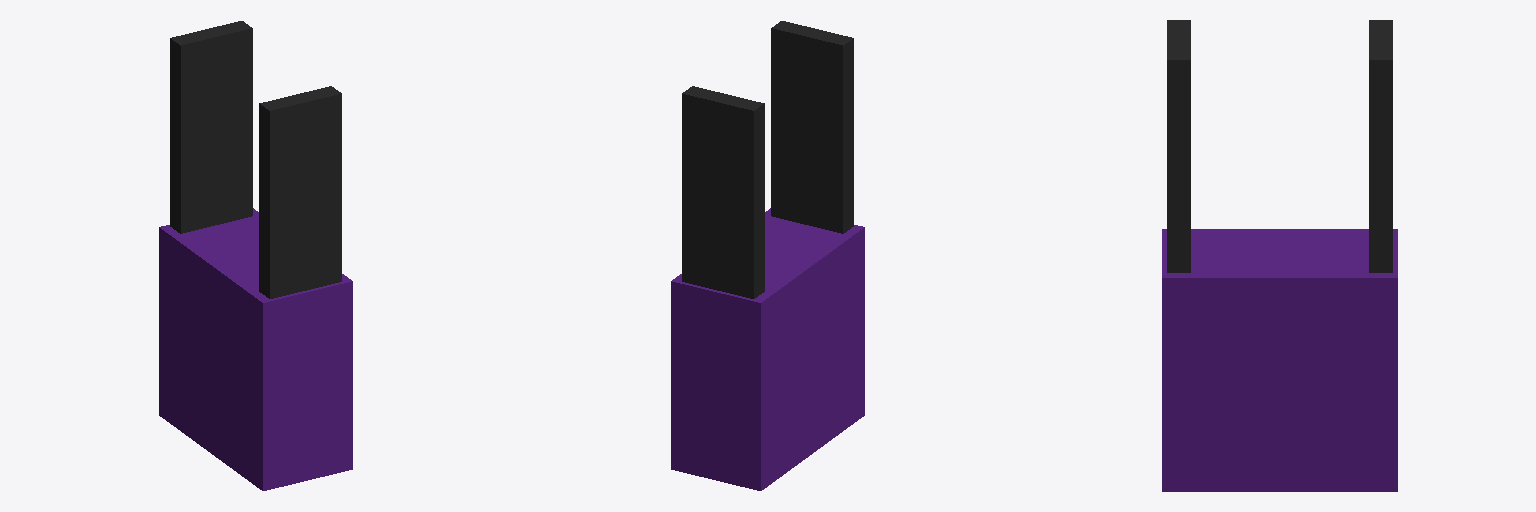
URDF robot description (gripper):
<?xml version="1.0" ?>
<!-- =================================================================================== -->
<!-- |    This document was autogenerated by xacro from src/bots/xacro/gripper.xacro   | -->
<!-- |    EDITING THIS FILE BY HAND IS NOT RECOMMENDED                                 | -->
<!-- =================================================================================== -->
<robot name="gripper">
  <!-- ****************************************************** Gripper Robot ************************************************************  -->
  <!-- [author]                                                                                                                  -->
  <!-- March 2022                                                                                                                         -->
  <!-- *********************************************************************************************************************************  -->
  <!-- ****************************************************** Parameters ***************************************************************  -->
  <!-- ****************************************************** Includes *****************************************************************  -->
  <material name="red">
    <color rgba="1.0 0.0 0.0 1.0"/>
  </material>
  <material name="green">
    <color rgba="0.0 1.0 0.0 1.0"/>
  </material>
  <material name="blue">
    <color rgba="0.0 0.0 1.0 1.0"/>
  </material>
  <material name="black">
    <color rgba="0.3 0.3 0.3 1.0"/>
  </material>
  <material name="white">
    <color rgba="1.0 1.0 1.0 1.0"/>
  </material>
  <material name="grey">
    <color rgba="0.2 0.2 0.2 1.0"/>
  </material>
  <material name="orange">
    <color rgba="1.0 0.4235294117647059 0.0392156862745098 1.0"/>
  </material>
  <material name="brown">
    <color rgba="0.8705882352941177 0.8117647058823529 0.7647058823529411 1.0"/>
  </material>
  <material name="yellow">
    <color rgba="1.0 1.0 0.0 1.0"/>
  </material>
  <!-- ****************************************************** World Link *************************************************************** -->
  <link name="world"/>
  <!-- ****************************************************** Base Link **************************************************************** -->
  <link name="base">
    <visual>
      <geometry>
        <box size="0.5 1 1"/>
      </geometry>
      <origin xyz="0 0 0.5"/>
      <material name="violet">
        <color rgba="0.4 0.18 0.57 1.0"/>
      </material>
    </visual>
    <inertial>
      <mass value="50"/>
      <inertia ixx="1.0" ixy="0.0" ixz="0.0" iyy="1.0" iyz="0.0" izz="1.0"/>
    </inertial>
  </link>
  <gazebo reference="base">
    <material>Gazebo/Orange</material>
  </gazebo>
  <!-- ****************************************************** finger_right Link ******************************************************** -->
  <link name="finger_right">
    <visual>
      <geometry>
        <box size="0.4 0.1 1"/>
      </geometry>
      <origin xyz="0 0.05 0.5"/>
      <material name="grey">
        <color rgba="0.2 0.2 0.2 1"/>
      </material>
    </visual>
    <inertial>
      <mass value="5"/>
      <inertia ixx="1.0" ixy="0.0" ixz="0.0" iyy="1.0" iyz="0.0" izz="1.0"/>
    </inertial>
  </link>
  <!-- ****************************************************** finger_left Link ********************************************************* -->
  <link name="finger_left">
    <visual>
      <geometry>
        <box size="0.4 0.1 1"/>
      </geometry>
      <origin xyz="0 0.05 0.5"/>
      <material name="grey">
        <color rgba="0.2 0.2 0.2 1"/>
      </material>
    </visual>
    <inertial>
      <mass value="5"/>
      <inertia ixx="1.0" ixy="0.0" ixz="0.0" iyy="1.0" iyz="0.0" izz="1.0"/>
    </inertial>
  </link>
  <!-- ****************************************************** world to base Joint ****************************************************** -->
  <joint name="world_to_base" type="fixed">
    <origin rpy="0 0 0" xyz="0 0 0"/>
    <parent link="world"/>
    <child link="base"/>
  </joint>
  <!-- ****************************************************** right_finger Joint ******************************************************* -->
  <joint name="right_finger_joint" type="prismatic">
    <axis xyz="0 1 0"/>
    <origin rpy="0.0 0.0 0.0" xyz="0.0 -0.48 1"/>
    <parent link="base"/>
    <child link="finger_right"/>
    <limit effort="1000.0" lower="0" upper="0.38" velocity="10"/>
  </joint>
  <!-- ****************************************************** left_finger Joint ******************************************************** -->
  <joint name="left_finger_joint" type="prismatic">
    <mimic joint="right_finger_joint"/>
    <axis xyz="0 1 0"/>
    <origin rpy="0.0 0.0 3.1415926535" xyz="0.0 0.48 1"/>
    <parent link="base"/>
    <child link="finger_left"/>
    <limit effort="1000.0" lower="0" upper="0.38" velocity="10"/>
  </joint>
  <!-- ****************************************************** End ********************************************************************** -->
  <!-- ****************************************************** Base Link *************************************************************** -->
  <gazebo reference="base">
    <material>Gazebo/Orange</material>
  </gazebo>
  <!-- ****************************************************** finger_right Link ******************************************************** -->
  <gazebo reference="finger_right">
    <material>Gazebo/Red</material>
  </gazebo>
  <!-- ****************************************************** finger_left Link ********************************************************* -->
  <gazebo reference="finger_left">
    <material>Gazebo/Red</material>
  </gazebo>
  <!-- ****************************************************** Gazebo ROS2 Plugin ******************************************************* -->
  <gazebo>
    <plugin filename="libgazebo_ros2_control.so" name="gazebo_ros2_control">
      <robot_param>robot_description</robot_param>
      <robot_param_node>robot_state_publisher</robot_param_node>
      <parameters>[local-path]/ws/install/bots/share/bots/config/gripper.yaml</parameters>
    </plugin>
  </gazebo>
  <!-- ****************************************************** End ********************************************************************** -->
  <!-- ****************************************************** Gazebo ROS2 Control ****************************************************** -->
  <ros2_control name="GazeboSystem" type="system">
    <hardware>
      <plugin>gazebo_ros2_control/GazeboSystem</plugin>
    </hardware>
    <joint name="right_finger_joint">
      <command_interface name="position"/>
      <state_interface name="position">
        <param name="initial_value">0.15</param>
      </state_interface>
      <state_interface name="velocity"/>
      <state_interface name="effort"/>
    </joint>
    <joint name="left_finger_joint">
      <param name="mimic">right_finger_joint</param>
      <param name="multiplier">1</param>
      <command_interface name="position"/>
      <state_interface name="position"/>
      <state_interface name="velocity"/>
      <state_interface name="effort"/>
    </joint>
  </ros2_control>
  <!-- ****************************************************** End ********************************************************************** -->
  <!--  ROS2_Control -->
  <!-- ****************************************************** END **********************************************************************  -->
</robot>

--- Facts derived from the render (not from the file) ---
Views: 3 orthographic renders of the robot side by side, from view 1: azimuth 30°, elevation 25°; view 2: azimuth 150°, elevation 25°; view 3: azimuth 270°, elevation 25°.
Robot: gripper — 4 links, 3 joints (2 prismatic, 1 fixed); root link world; default pose: every joint at zero.
Links seen in each view (by area): view 1: base, finger_left, finger_right; view 2: base, finger_right, finger_left; view 3: base, finger_right, finger_left.
Link boxes in pixels (box(x1,y1,x2,y2)): base: box(159, 208, 352, 490); finger_left: box(170, 21, 252, 233); finger_right: box(259, 86, 341, 298); base: box(671, 208, 864, 490); finger_right: box(771, 21, 853, 233); finger_left: box(682, 86, 764, 298); base: box(1162, 229, 1397, 491); finger_right: box(1167, 20, 1190, 272); finger_left: box(1369, 20, 1392, 272).
Size in the robot's own frame: 0.5 by 1 by 2 metres.
Geometry: primitives only (box / cylinder / sphere), no mesh files.